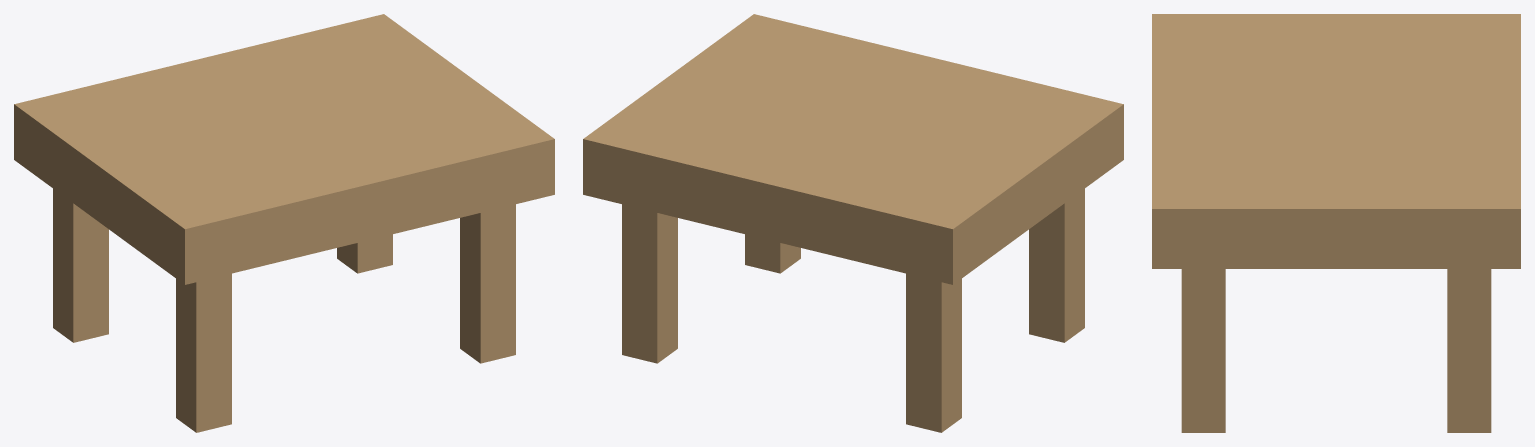
File: side_table.glb
3 renders of one model, left to right at view 1: azimuth 30°, elevation 25°; view 2: azimuth 150°, elevation 25°; view 3: azimuth 270°, elevation 25°, orthographic. The views are drawn at different scales.
Bounding box in the file's own units: 1.25 × 0.71 × 1.
